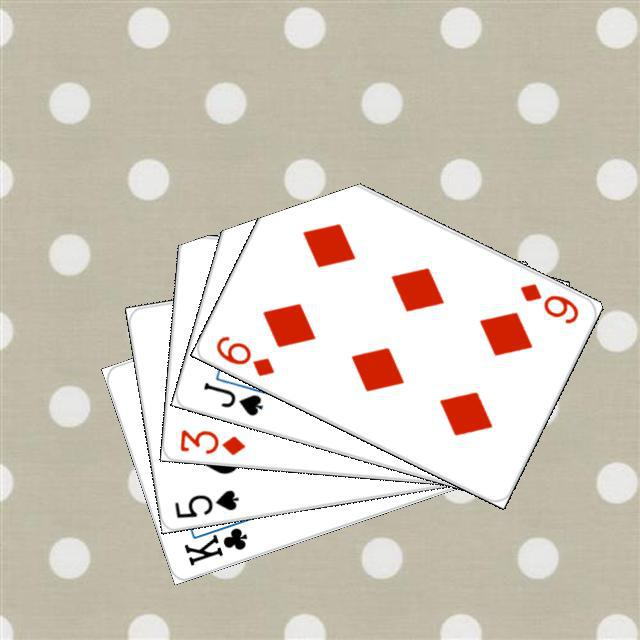3d: (175, 424, 247, 457)
5s: (169, 485, 241, 520)
6d: (514, 278, 581, 326), (211, 330, 276, 378)
Js: (198, 377, 265, 418)
Kc: (178, 513, 251, 568)
